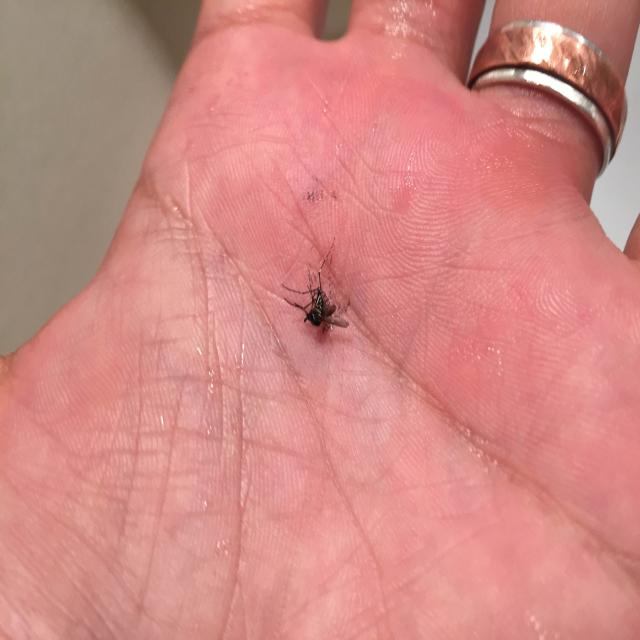albopictus: (273, 235, 354, 337)
